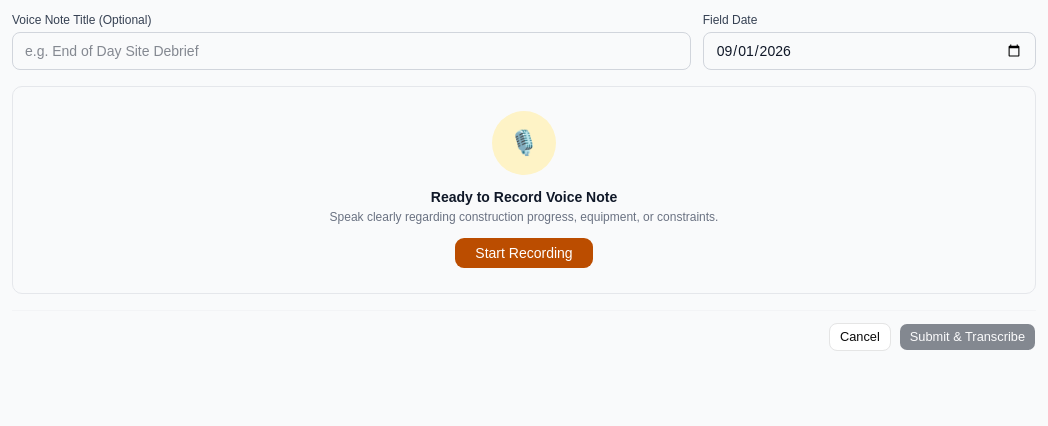
Test case: VoiceRecorder › displays error when microphone permission is denied
Click the button "Start Recording" at (524, 253), box [454,237,594,269]
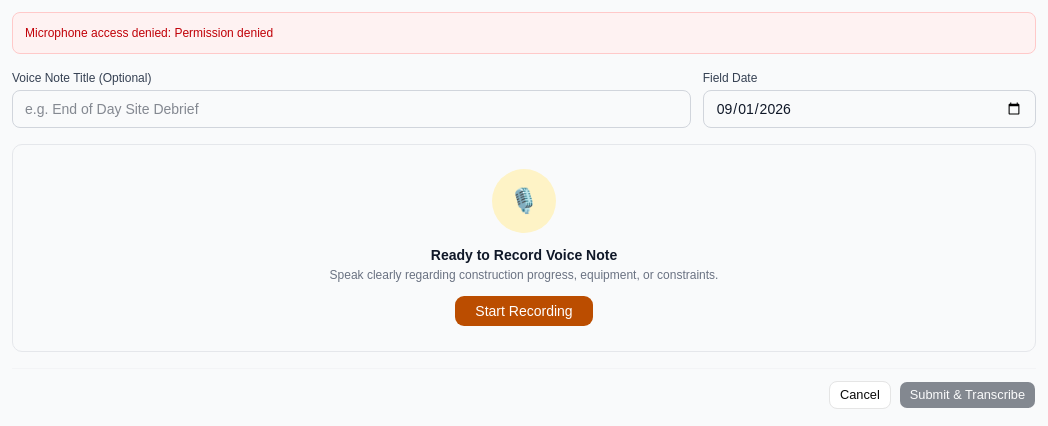
Check: the message shows "Microphone access denied", box [25,26,273,40]
